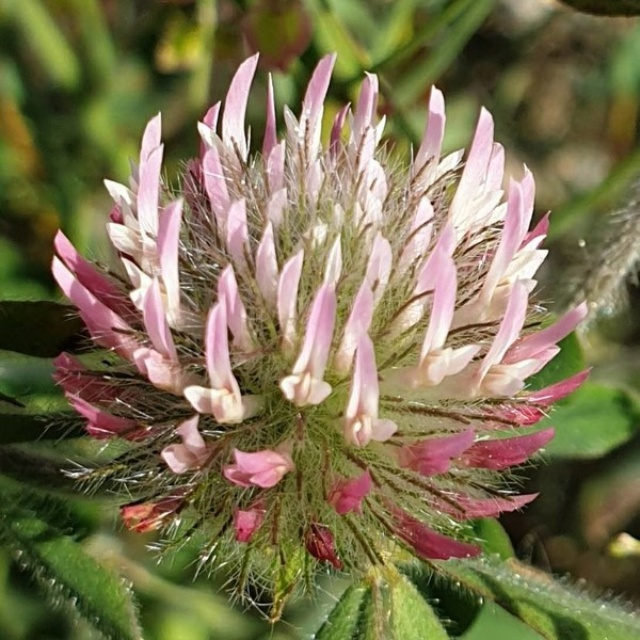obstacle: (55, 46, 559, 586)
